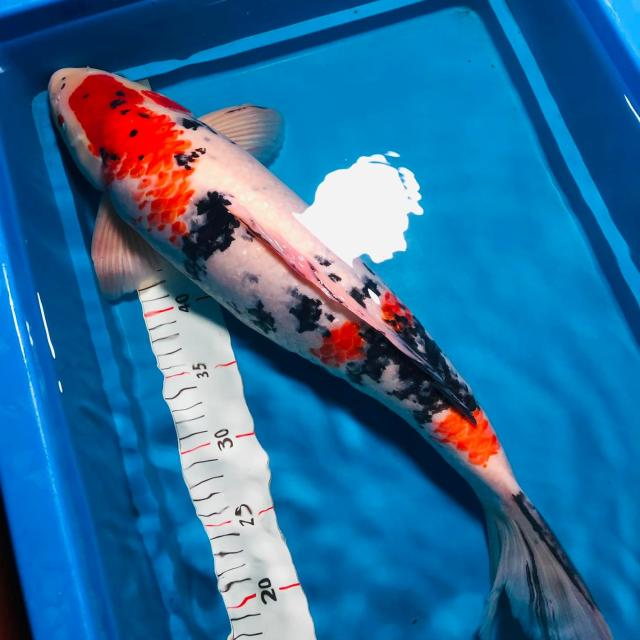Sanke: (45, 64, 614, 638)
